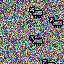sheep: (28, 35, 44, 46), (49, 16, 63, 28), (29, 7, 43, 18), (41, 59, 57, 64)
